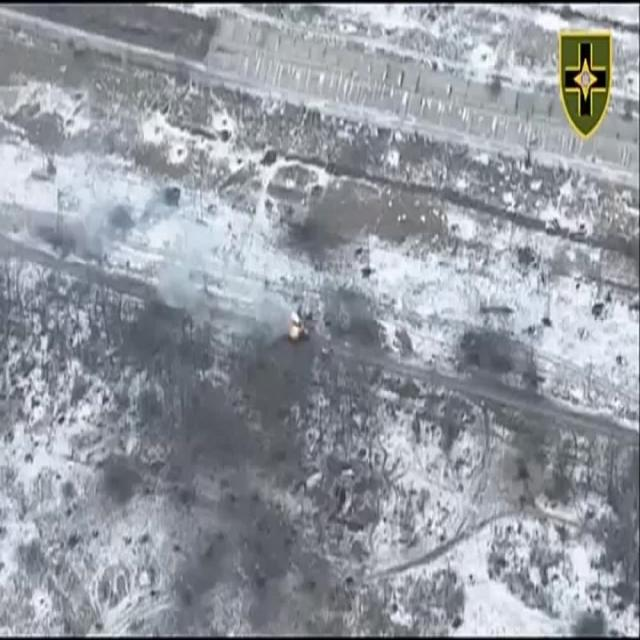cars: (288, 318, 309, 342), (262, 146, 278, 163), (570, 228, 588, 242), (546, 216, 558, 234)
